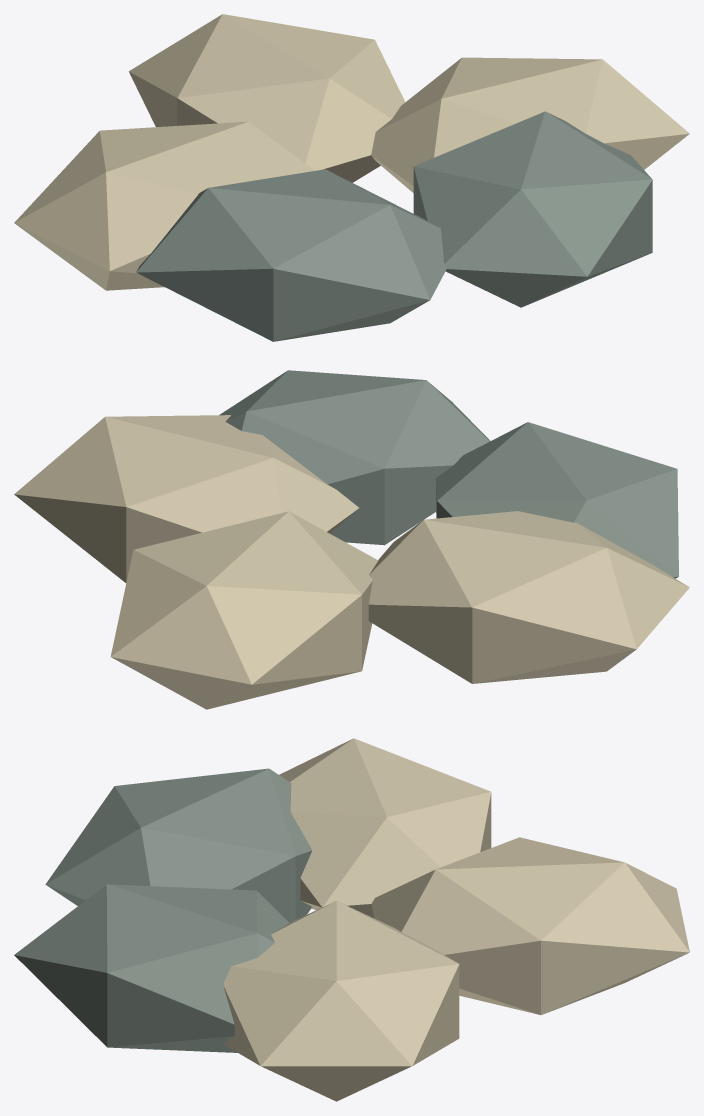
The model's file is decoration-stones.glb.
The picture shows the model from 3 angles, top to bottom: view 1: azimuth 30°, elevation 25°; view 2: azimuth 150°, elevation 25°; view 3: azimuth 270°, elevation 25°; orthographic projection. The views are drawn at different scales.
Visible parts, largest first — view 1: decoration-stones-visual; view 2: decoration-stones-visual; view 3: decoration-stones-visual.
Boxes of the visible parts, bbox=[...] form: decoration-stones-visual: bbox=[14, 14, 689, 341]; decoration-stones-visual: bbox=[14, 370, 689, 709]; decoration-stones-visual: bbox=[14, 738, 689, 1101].
Bounding box in the file's own units: 0.6877 × 0.13 × 0.6602.
